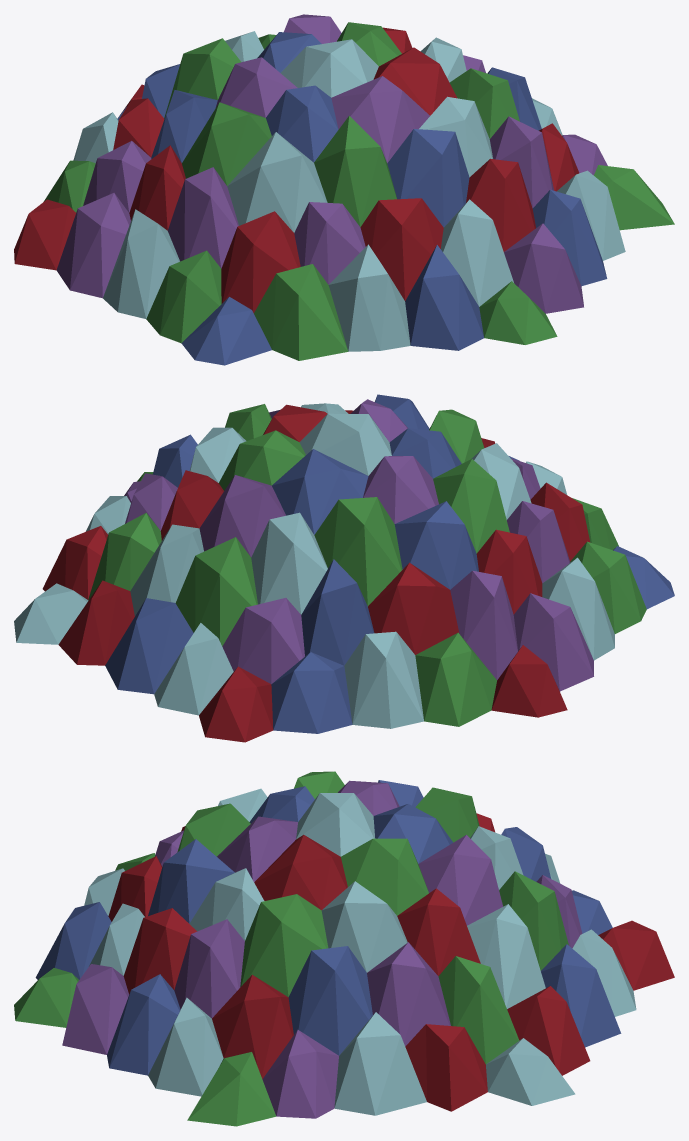
File: gem.glb
3 views of the same model, one above another, from view 1: azimuth 30°, elevation 25°; view 2: azimuth 150°, elevation 25°; view 3: azimuth 270°, elevation 25° (orthographic).
Visible parts, largest first — view 1: chips; view 2: chips; view 3: chips.
Part boxes in pixels (x1,y1,x2,y2): chips: (14, 14, 674, 365); chips: (14, 394, 674, 742); chips: (14, 771, 674, 1126).
Bounding box in the file's own units: 0.3878 × 0.1289 × 0.4035.
